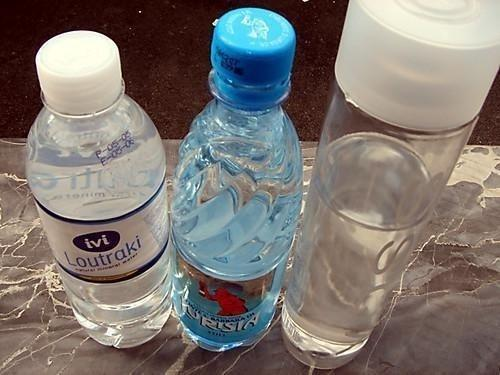bottle-plastic: (23, 28, 172, 349), (168, 5, 303, 351)
gym bottle: (284, 1, 500, 368)
